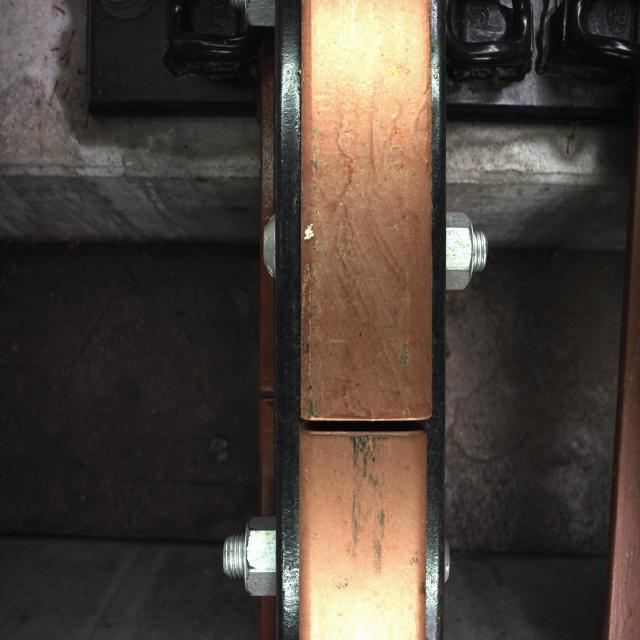spalling: (275, 381, 454, 494)
